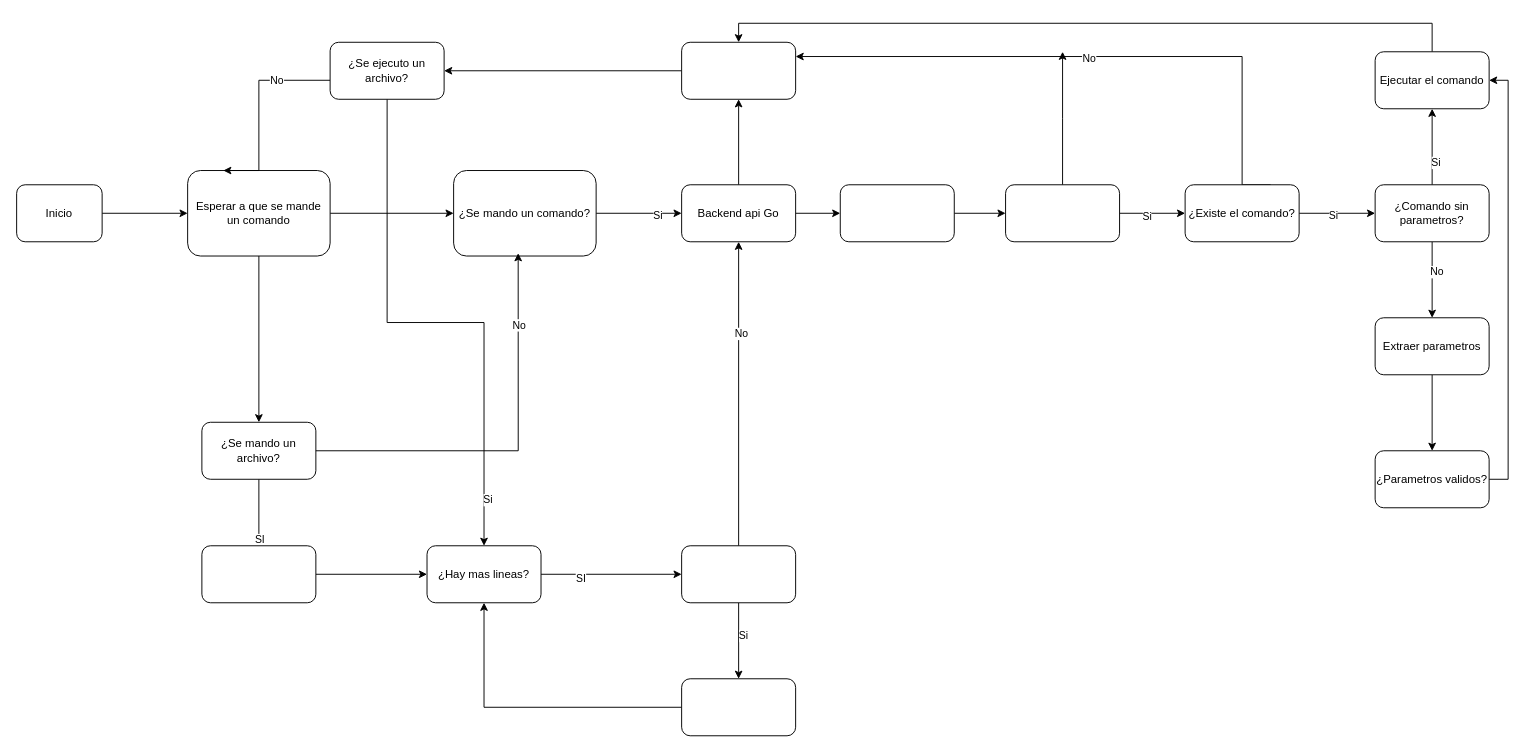
The diagram is 1532 pixels wide and 752 high, and some of its shapes have lost their labels. The shapes that lost their labels are listed below. From the top down, each one's centre as x and y in pixels, then its label:
At [738,70]: "Mostrar respuesta del servidor".
At [896,213]: "Parser".
At [1062,213]: "¿Comando valido?".
At [258,574]: "Dividir el contenido por lineas".
At [738,574]: "Es un comentario".
At [738,707]: "Ignorar linea".
